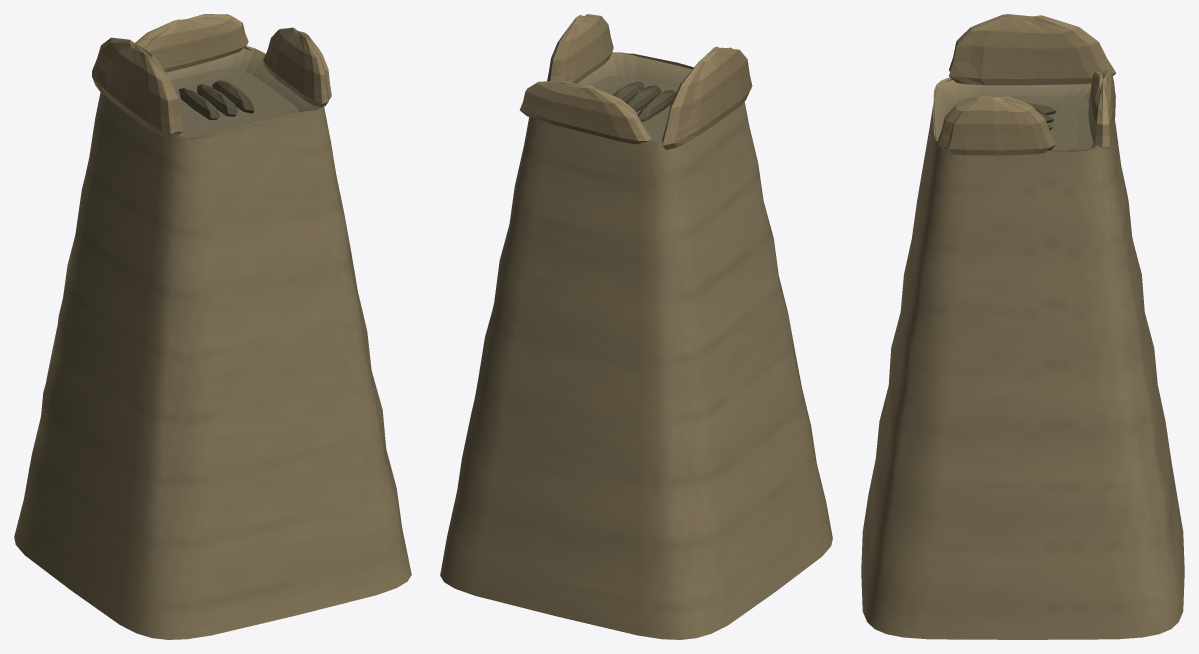
The model's file is beacon-han-lod0.glb.
3 renders of one model, left to right at view 1: azimuth 30°, elevation 25°; view 2: azimuth 150°, elevation 25°; view 3: azimuth 270°, elevation 25°, orthographic.
Size of the model in its own units: 0.216 by 0.3838 by 0.216.
Materials: 1 (1 with a texture image).
